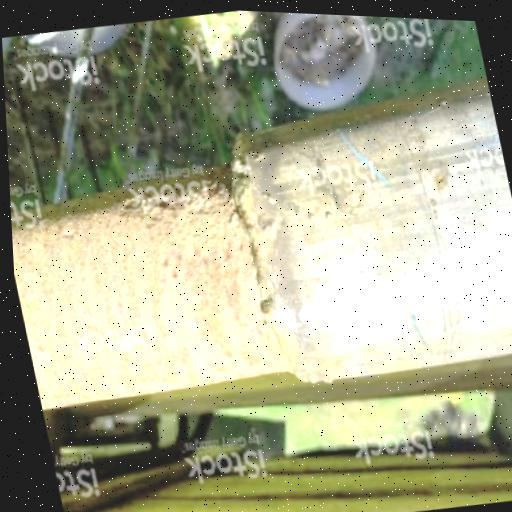corrosion: (9, 169, 299, 415)
